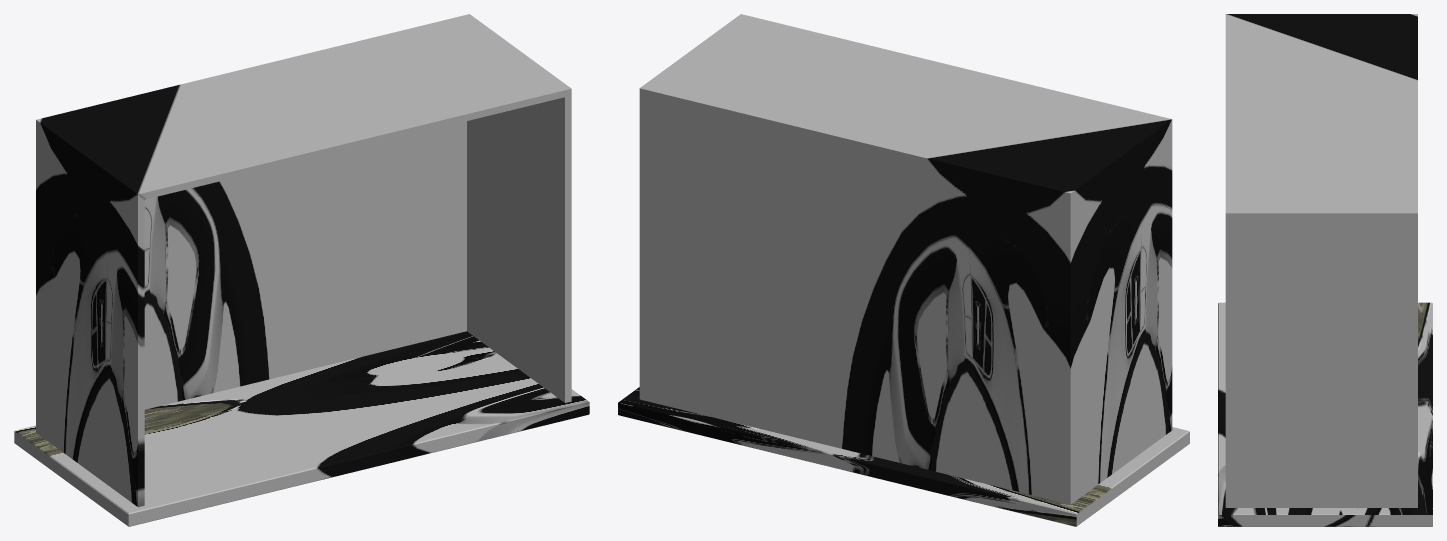
The model's file is Drawer_E.obj.
3 renders of one model, left to right at view 1: azimuth 30°, elevation 25°; view 2: azimuth 150°, elevation 25°; view 3: azimuth 270°, elevation 25°, orthographic. The views are drawn at different scales.
Bounding box in the file's own units: 0.889 × 0.602 × 0.381.
